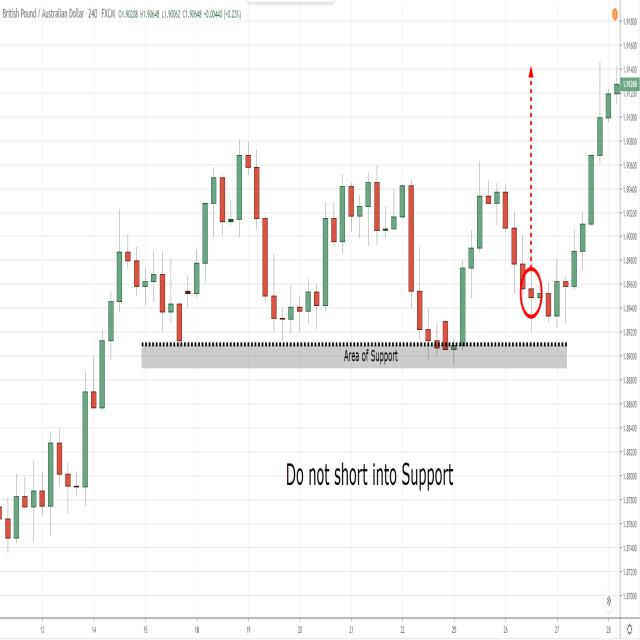Triple-Top: (150, 142, 523, 340)
